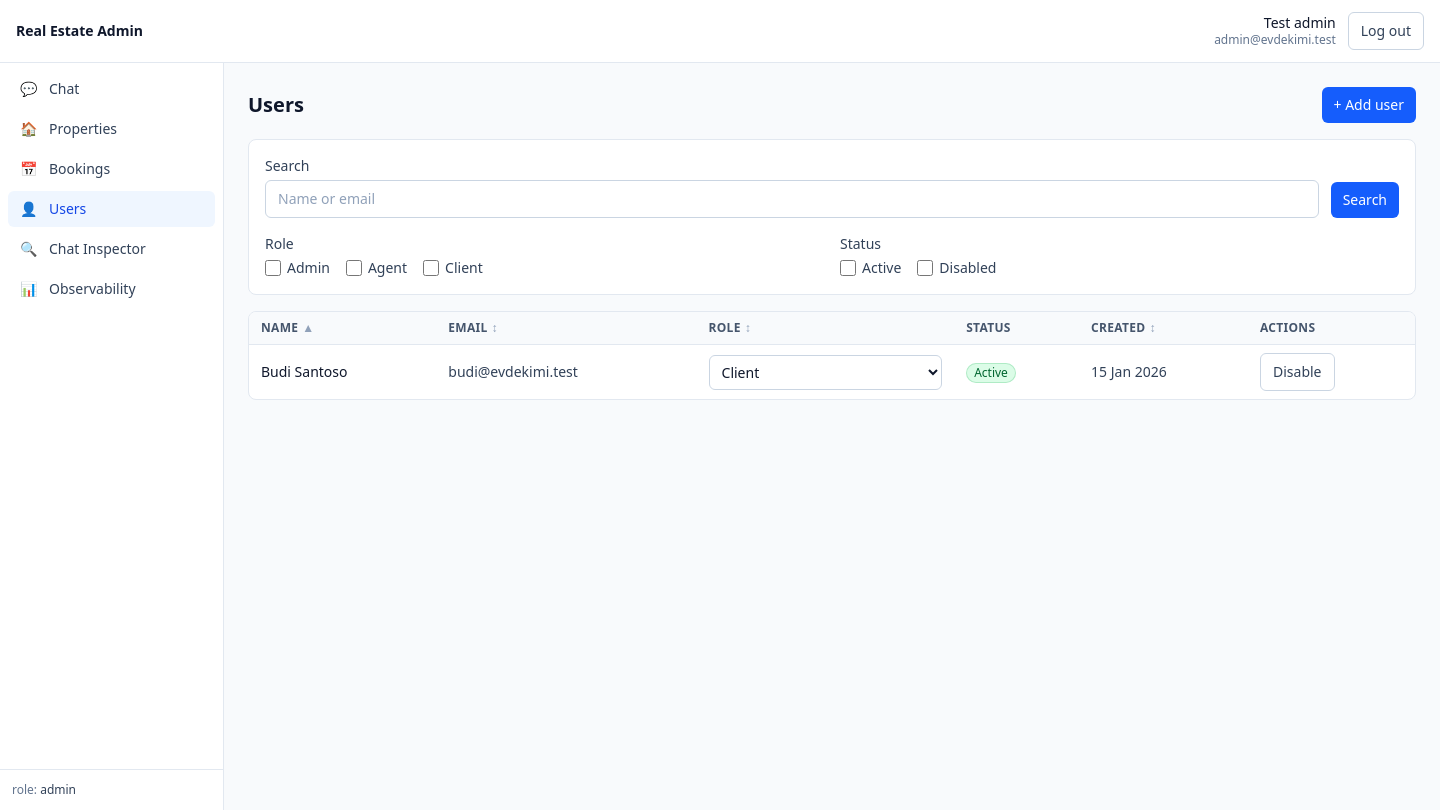
Test case: role change confirm-before-write › sends nothing while the confirmation is merely open
Check: the text "Budi Santoso" is shown, box 249,344 -> 436,399
Select "Agent" in the dropdown named "Role for Budi Santoso": (825, 372) 708,354 -> 942,390
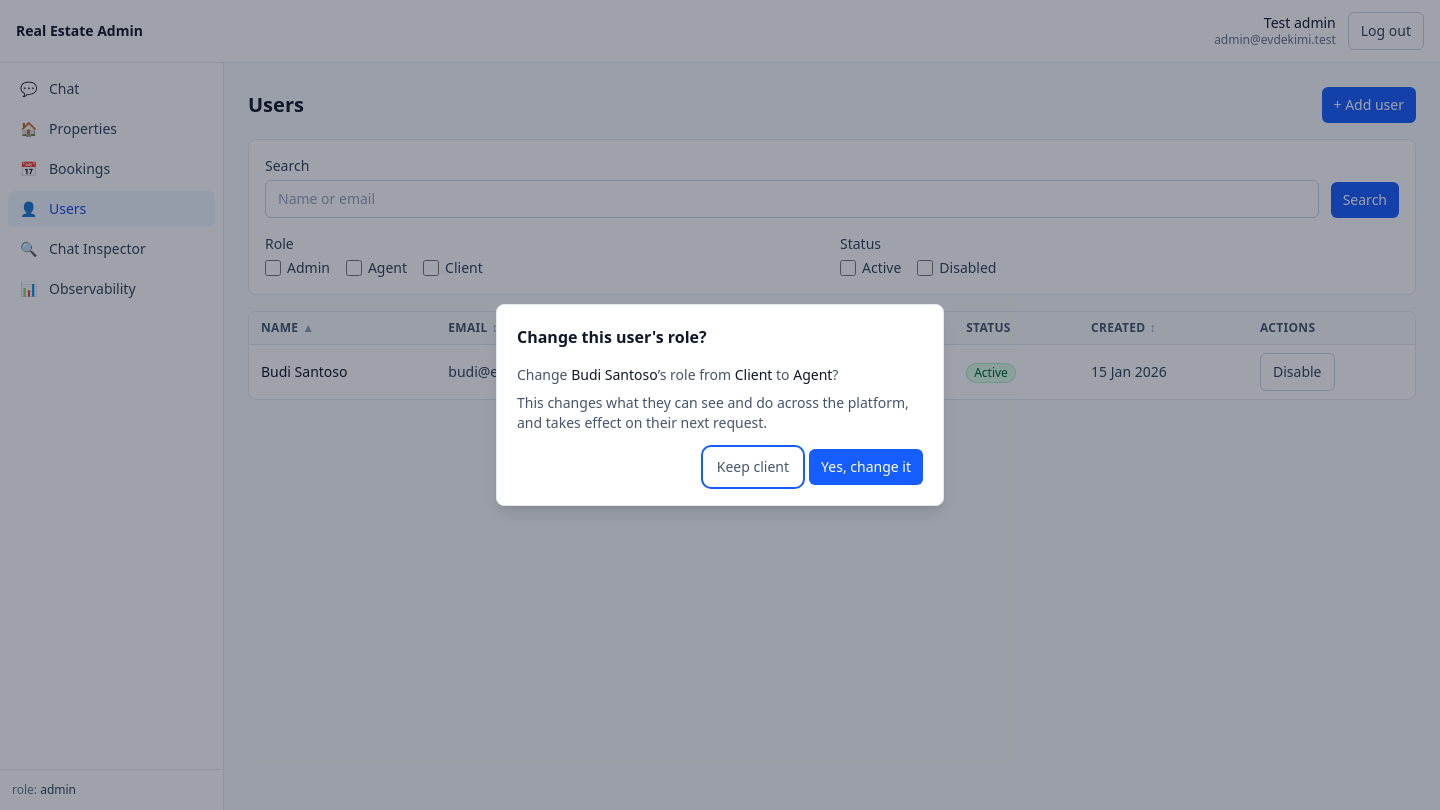
Check: the dialog is shown, box 496,304 -> 944,506
